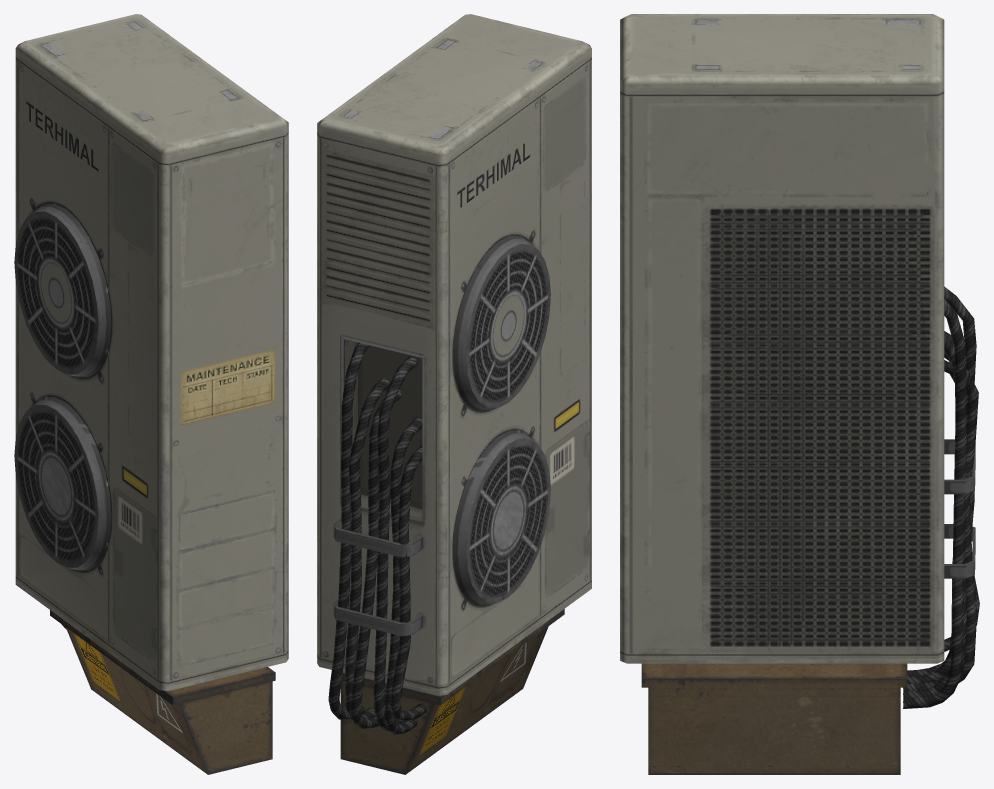
Rendered from CP_Conditioner_01.fbx.
3 renders of one model, left to right at view 1: azimuth 30°, elevation 25°; view 2: azimuth 150°, elevation 25°; view 3: azimuth 270°, elevation 25°, orthographic. The views are drawn at different scales.
Parts seen in each view (by area): view 1: CP_Conditioner_01_LOD0; view 2: CP_Conditioner_01_LOD0; view 3: CP_Conditioner_01_LOD0.
Boxes of the visible parts, <box> form: CP_Conditioner_01_LOD0: <box>14,14,288,774</box>; CP_Conditioner_01_LOD0: <box>317,14,591,774</box>; CP_Conditioner_01_LOD0: <box>620,14,979,774</box>.
Size of what is drawn, in the model's own units: 45.13 by 201 by 93.62.
